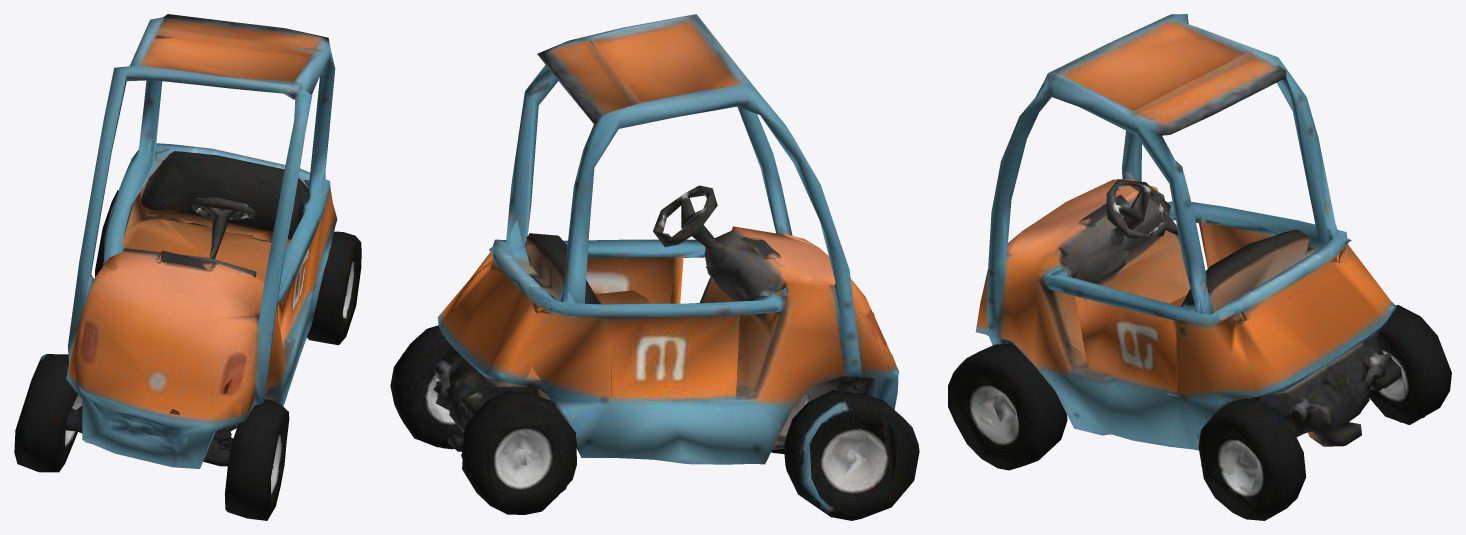
File: bumper-car.glb
3 renders of one model, left to right at view 1: azimuth 30°, elevation 25°; view 2: azimuth 150°, elevation 25°; view 3: azimuth 270°, elevation 25°, orthographic. The views are drawn at different scales.
Visible parts, largest first — view 1: RETOPO; view 2: RETOPO; view 3: RETOPO.
Part boxes in pixels (x1,y1,x2,y2): RETOPO: (14,14,361,520); RETOPO: (390,14,919,520); RETOPO: (948,14,1451,520).
Bounding box in the file's own units: 0.8897 × 0.8265 × 0.8862.
1 material, 1 textured.
